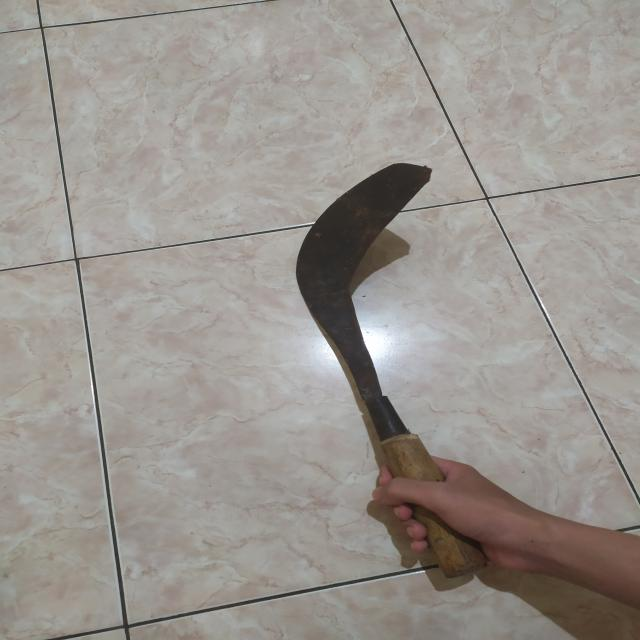Celurit: (291, 165, 490, 576)
